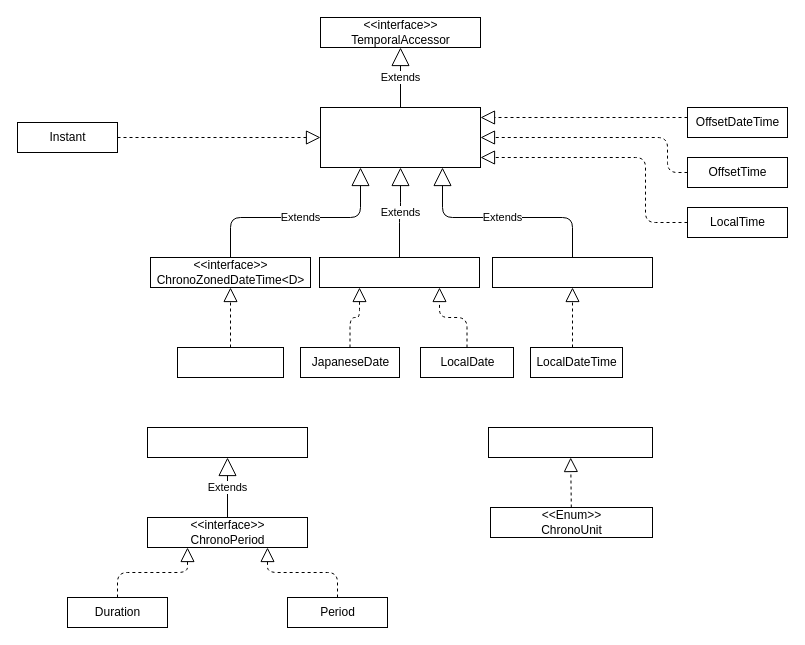
Some shapes in this 805 by 645 pixel diagram are drawn without their labels. The box of each missing label's shape, as (x1, y1, x2, y2) in pixels:
<<interface>> ChronoLocalDate: (318, 256, 480, 288)
<<interface>> ChronoLocalDateTime<D>: (492, 256, 652, 288)
<<interface>> Temporal: (320, 106, 480, 168)
<<interface>> TemporalAmount: (146, 426, 308, 458)
<<interface>> TemporalUnit: (488, 426, 652, 458)
ZonedDateTime: (176, 346, 284, 378)
